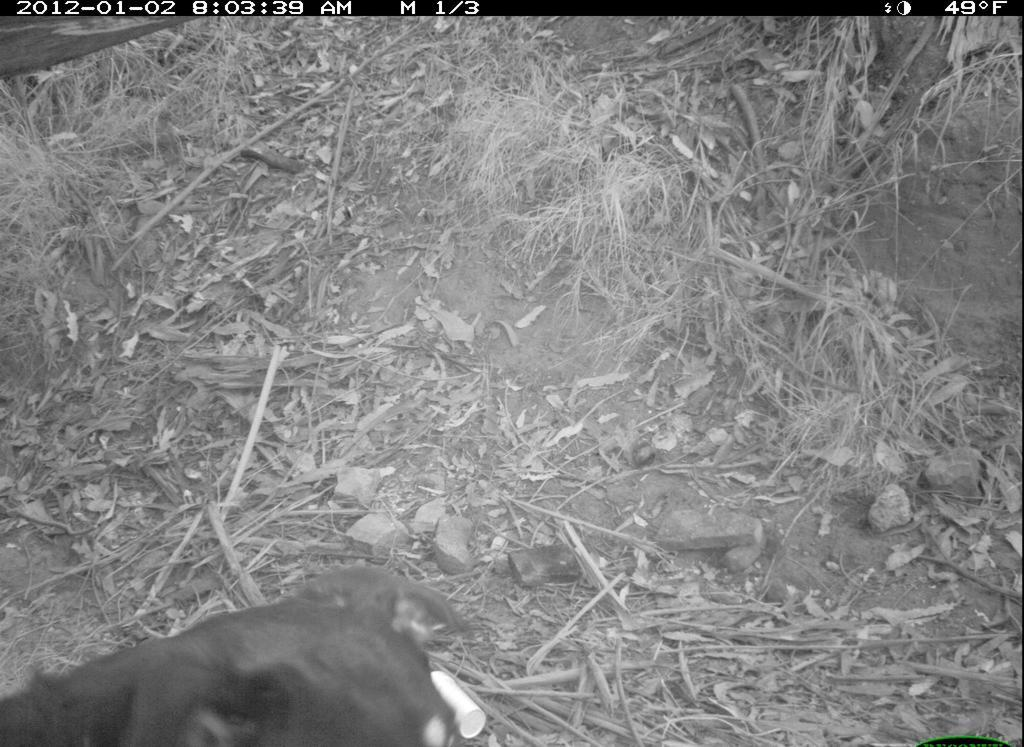dog: (3, 559, 505, 743)
